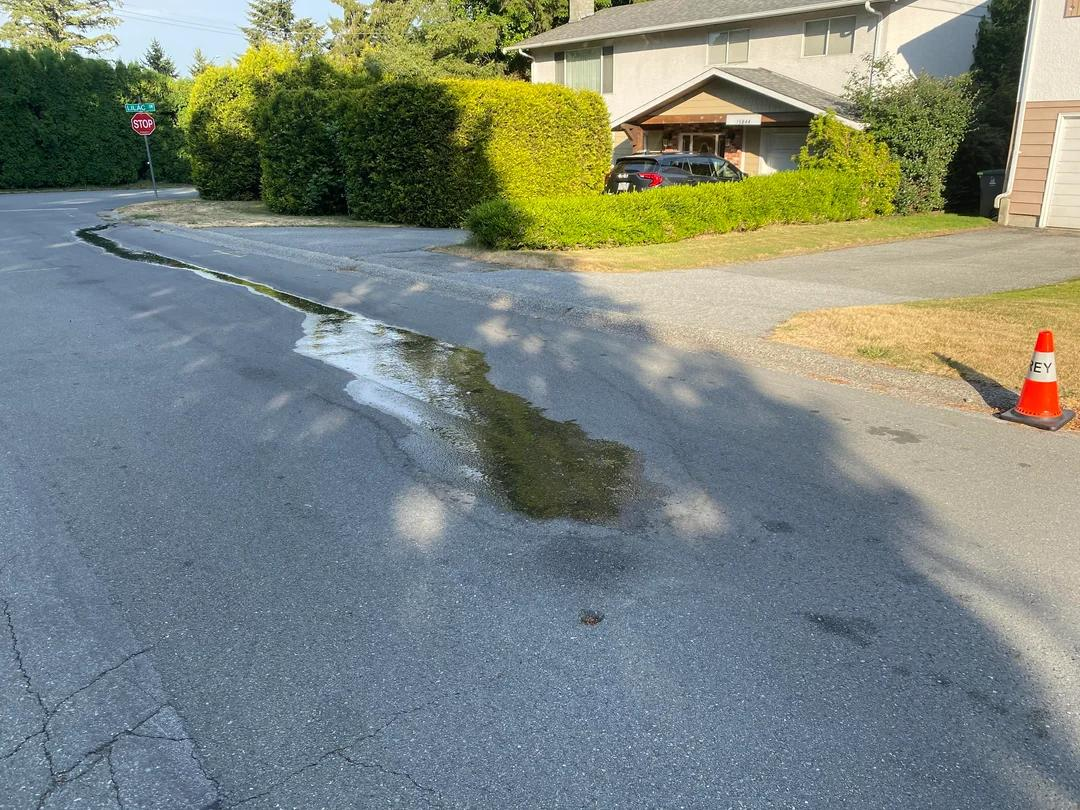water_leak: (64, 202, 663, 518)
